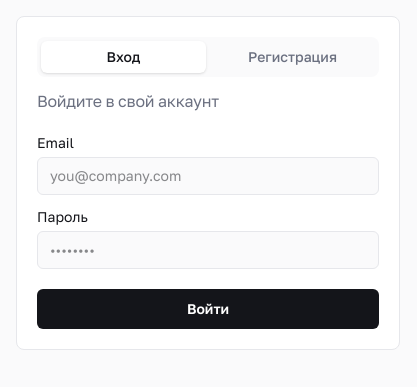
Scenario: LoginPage › rejects a short password on register
Click the button "Регистрация" at [292, 57], box [210,41,375,73]
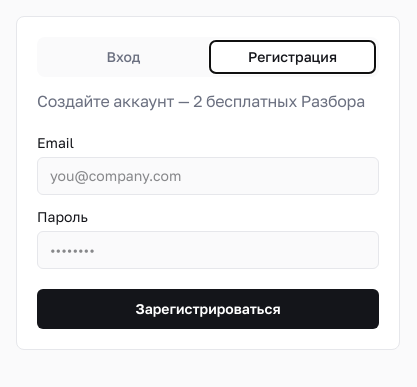
Type "new@example.com" into the field with placeholder "you@company.com" at [208, 176], box [37,157,379,195]
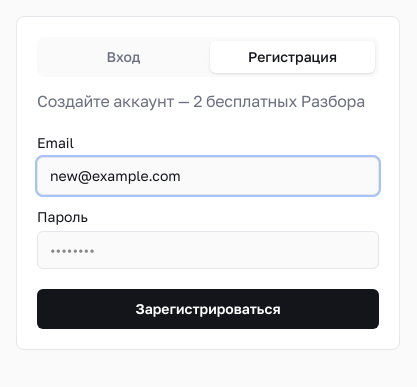
Type "short" into the password field with placeholder "••••••••" at [208, 250], box [37,231,379,269]
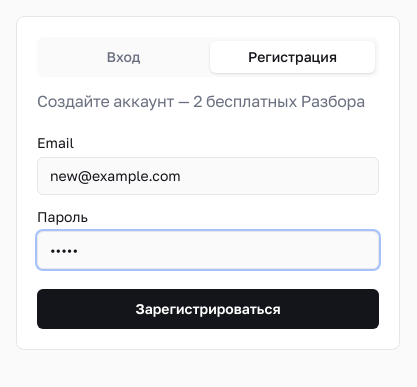
Click the button "Зарегистрироваться" at [208, 309], box [37,289,379,329]
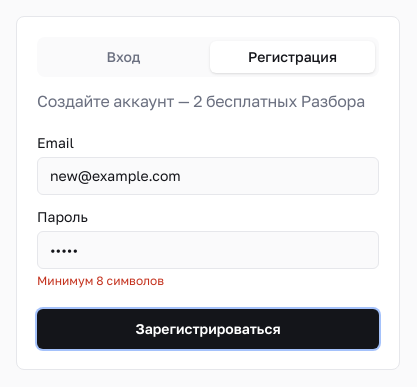
Result: the text "Минимум 8 символов" is shown at [37,273,164,288]
